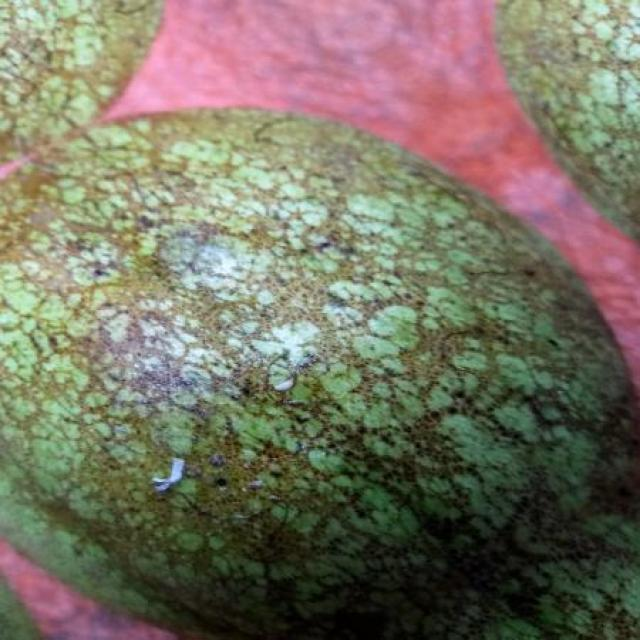Scab: (0, 111, 640, 640), (0, 0, 162, 151)
